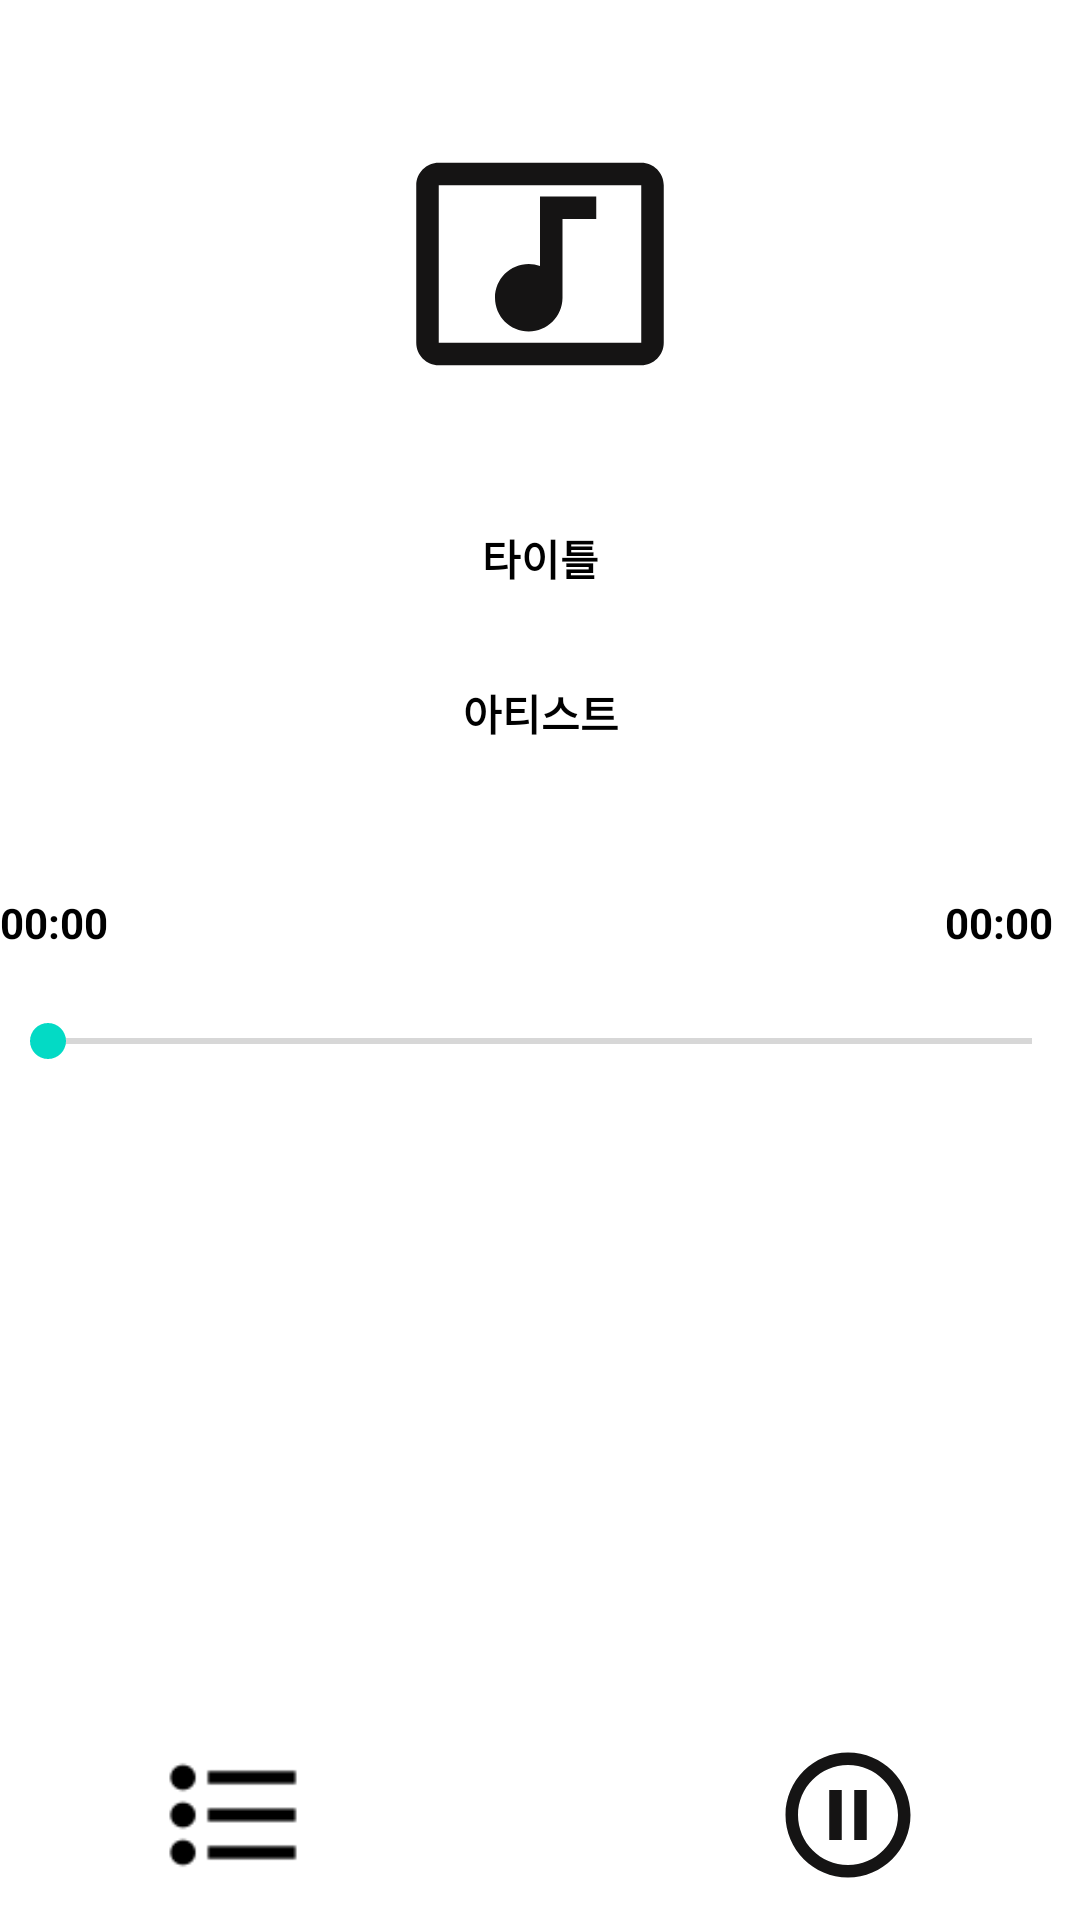

Icon click points for this 1080w x 1920h phone screenshot, format (x=x, y=y):
list checklist: (x=233, y=1815)
music video: (x=540, y=264)
pause circle: (x=848, y=1815)
